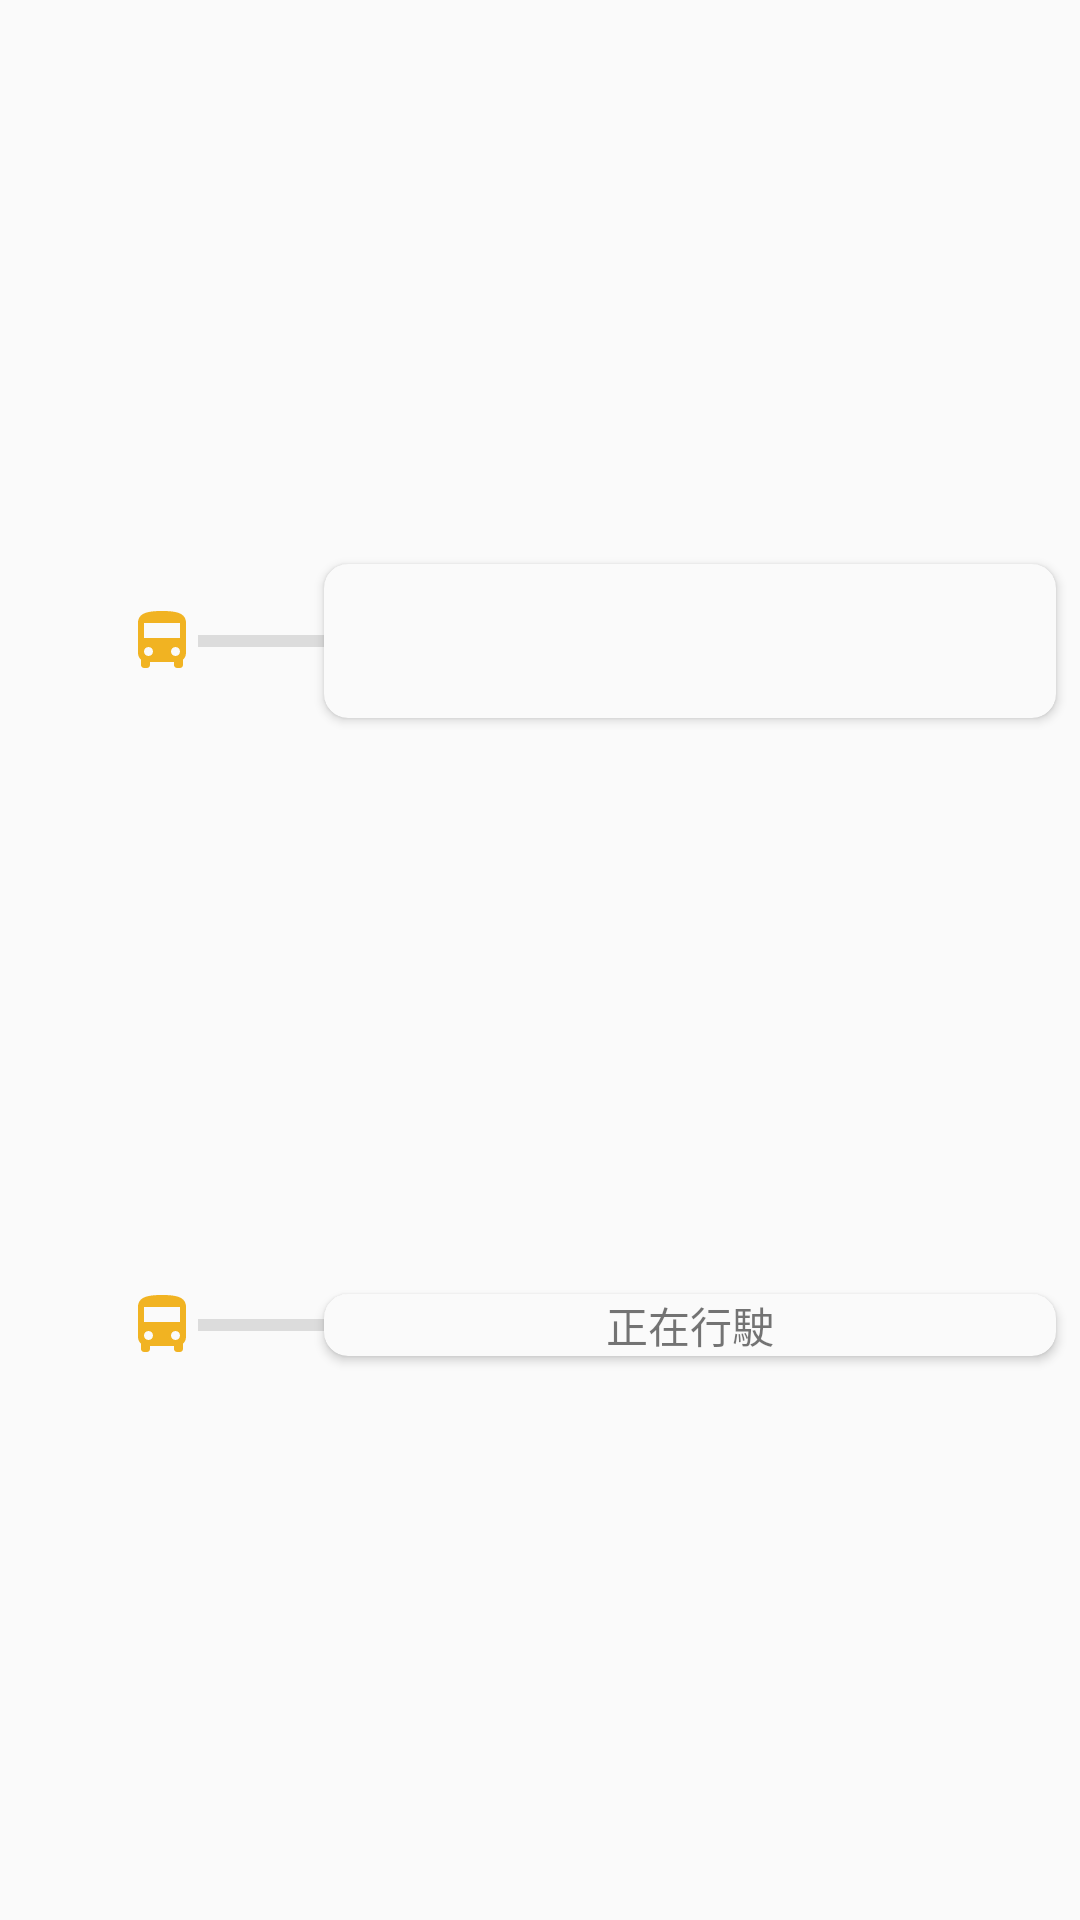

Icon click points for this 1080x1920 phone screenshot, format [x,y]:
directions bus: [162,639], [162,1323]
